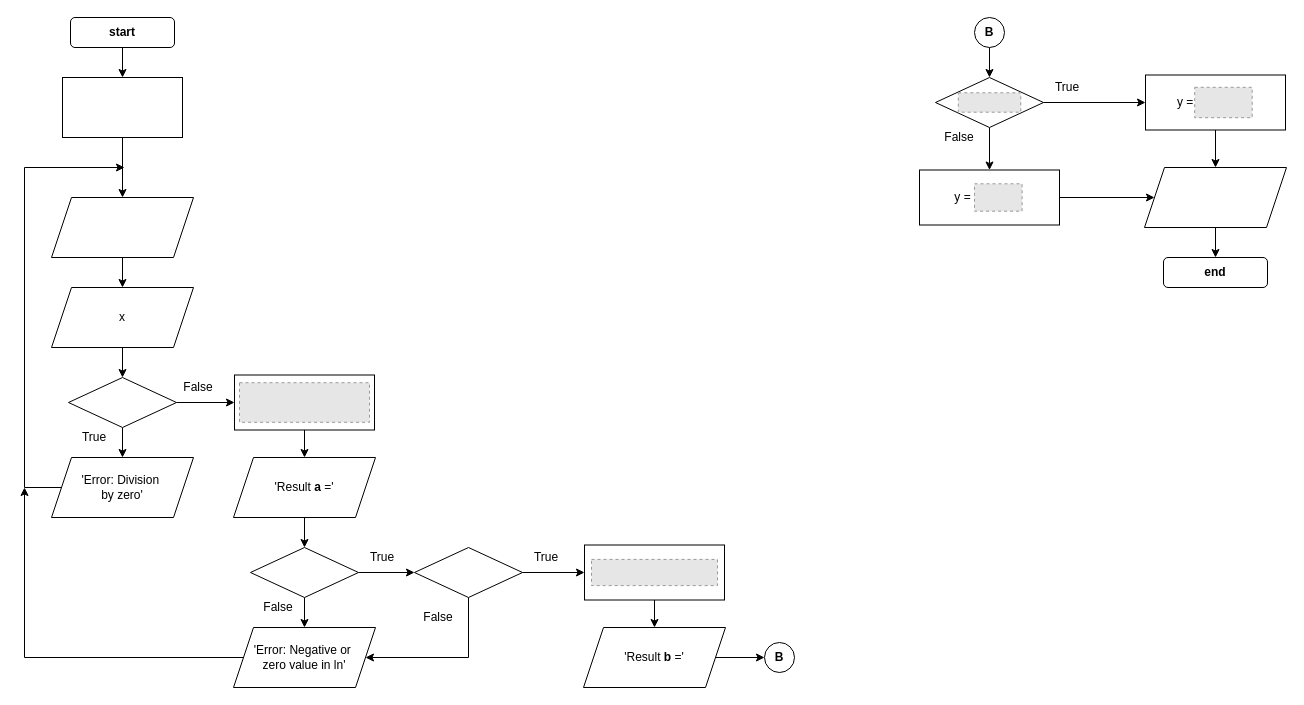
Some shapes in this 1304 by 705 pixel diagram are drawn without their labels. Grey dashed boxes stand in for pictures. Here are the shapes that lost their labels. From the top down, the box of each, then its label:
(62, 76, 182, 138): K = 0.0186 L = 0.01
(1144, 166, 1286, 228): 'Result y ='
(50, 196, 194, 258): 'Please enter the value of x'
(68, 376, 176, 428): cos x = 0
(250, 546, 358, 598): x > 0
(414, 546, 522, 598): lg x > 0
